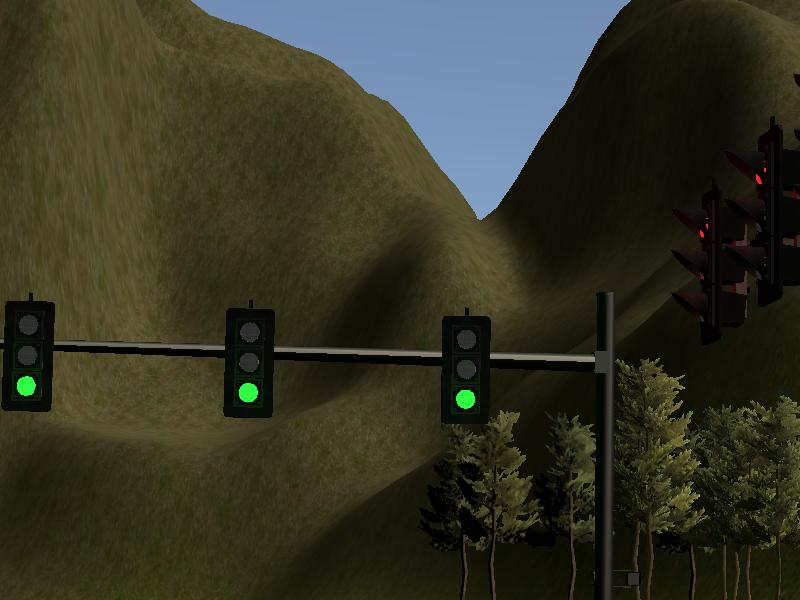not_red: (438, 312, 492, 425), (223, 310, 278, 418), (5, 297, 52, 413)
